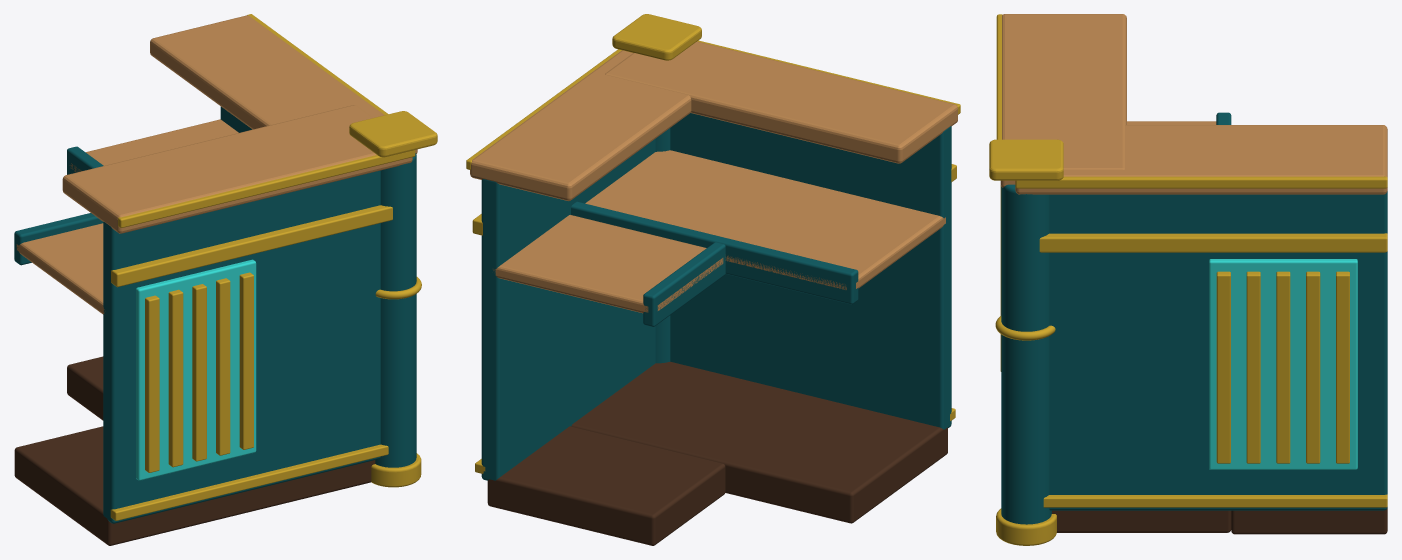
The model's file is reception-desk-corner.glb.
3 views of the same model, side by side, from view 1: azimuth 30°, elevation 25°; view 2: azimuth 150°, elevation 25°; view 3: azimuth 270°, elevation 25° (orthographic). The views are drawn at different scales.
Visible parts, largest first — view 1: a.panel, a.top.txn, b.top.txn, a.plinth, a.panel.colour, corner.column, a.band.speed, a.top.work, a.band.base, a.nose, a.flute.1, corner.cap (+10 smaller); view 2: a.panel, a.plinth, b.panel, a.top.work, a.top.txn, b.plinth, b.top.txn, b.top.work, a.apron, b.apron, corner.cap, corner.column (+1 smaller); view 3: b.panel, b.panel.colour, a.top.txn, b.top.txn, corner.column, b.band.speed, b.nose, b.band.base, a.plinth, b.plinth, corner.cap, b.flute.2 (+7 smaller).
Boxes of the visible parts, bbox=[...] form: a.panel: bbox=[103, 170, 380, 523]; a.top.txn: bbox=[62, 105, 412, 233]; b.top.txn: bbox=[150, 15, 417, 153]; a.plinth: bbox=[14, 426, 375, 545]; a.panel.colour: bbox=[136, 259, 256, 480]; corner.column: bbox=[375, 153, 416, 467]; a.band.speed: bbox=[111, 205, 392, 287]; a.top.work: bbox=[16, 223, 105, 314]; a.band.base: bbox=[110, 444, 388, 520]; a.nose: bbox=[118, 150, 415, 227]; a.flute.1: bbox=[168, 289, 183, 467]; corner.cap: bbox=[349, 111, 437, 157]; a.panel: bbox=[670, 113, 951, 429]; a.plinth: bbox=[571, 361, 947, 523]; b.panel: bbox=[481, 139, 655, 480]; a.top.work: bbox=[585, 150, 945, 289]; a.top.txn: bbox=[605, 41, 957, 163]; b.plinth: bbox=[487, 426, 725, 545]; b.top.txn: bbox=[470, 50, 691, 201]; b.top.work: bbox=[493, 215, 723, 313]; a.apron: bbox=[571, 201, 858, 304]; b.apron: bbox=[643, 242, 725, 326]; corner.cap: bbox=[612, 14, 701, 60]; corner.column: bbox=[655, 128, 670, 363]; b.panel: bbox=[1049, 191, 1387, 510]; b.panel.colour: bbox=[1209, 259, 1357, 469]; a.top.txn: bbox=[1000, 14, 1126, 187]; b.top.txn: bbox=[1015, 125, 1387, 194]; corner.column: bbox=[1001, 184, 1051, 524]; b.band.speed: bbox=[1039, 233, 1387, 252]; b.nose: bbox=[1015, 176, 1387, 188]; b.band.base: bbox=[1043, 494, 1387, 507]; a.plinth: bbox=[1052, 510, 1231, 532]; b.plinth: bbox=[1231, 508, 1387, 534]; corner.cap: bbox=[989, 139, 1063, 180]; b.flute.2: bbox=[1276, 271, 1290, 463].
Bounding box in the file's own units: 1.07 × 1.13 × 1.07.
